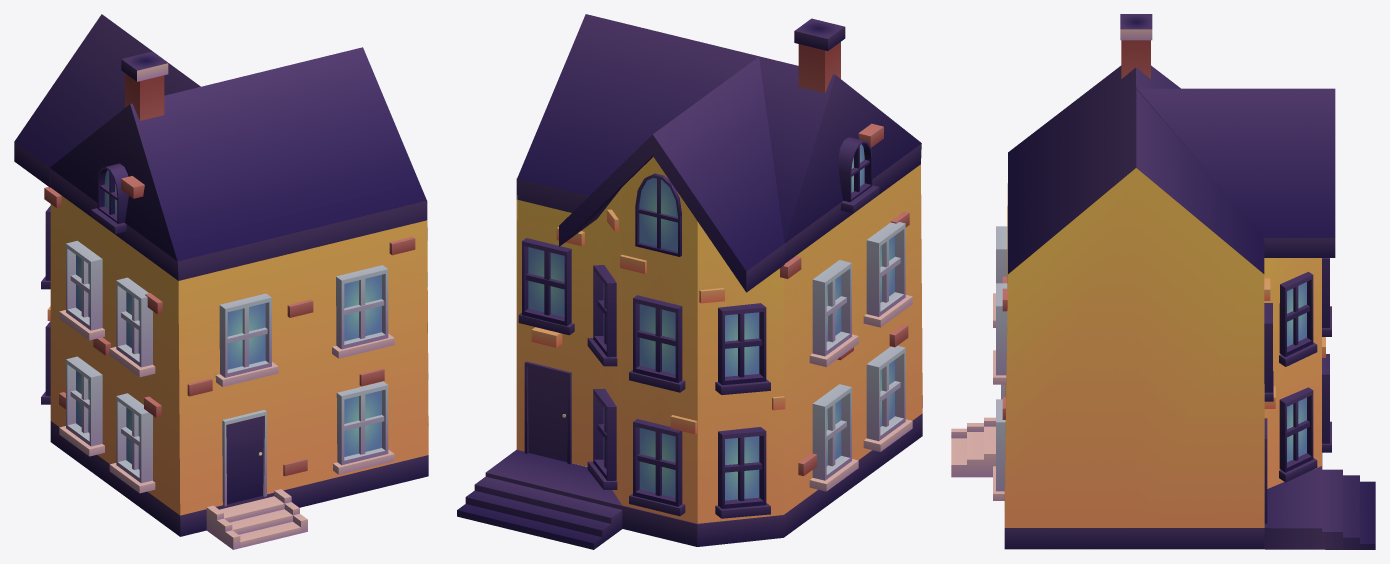
Rendered from SM_House_R_Short_BackDoor_03.fbx.
3 renders of one model, left to right at view 1: azimuth 30°, elevation 25°; view 2: azimuth 150°, elevation 25°; view 3: azimuth 270°, elevation 25°, orthographic. The views are drawn at different scales.
Visible parts, largest first — view 1: SM_House_R_Short_BackDoor_03; view 2: SM_House_R_Short_BackDoor_03; view 3: SM_House_R_Short_BackDoor_03.
Boxes of the visible parts, left/top/right/bottom form: SM_House_R_Short_BackDoor_03: left=14, top=14, right=428, bottom=549; SM_House_R_Short_BackDoor_03: left=457, top=14, right=922, bottom=549; SM_House_R_Short_BackDoor_03: left=951, top=14, right=1375, bottom=549.
Bounding box in the file's own units: 7.22 × 10.02 × 10.98.
